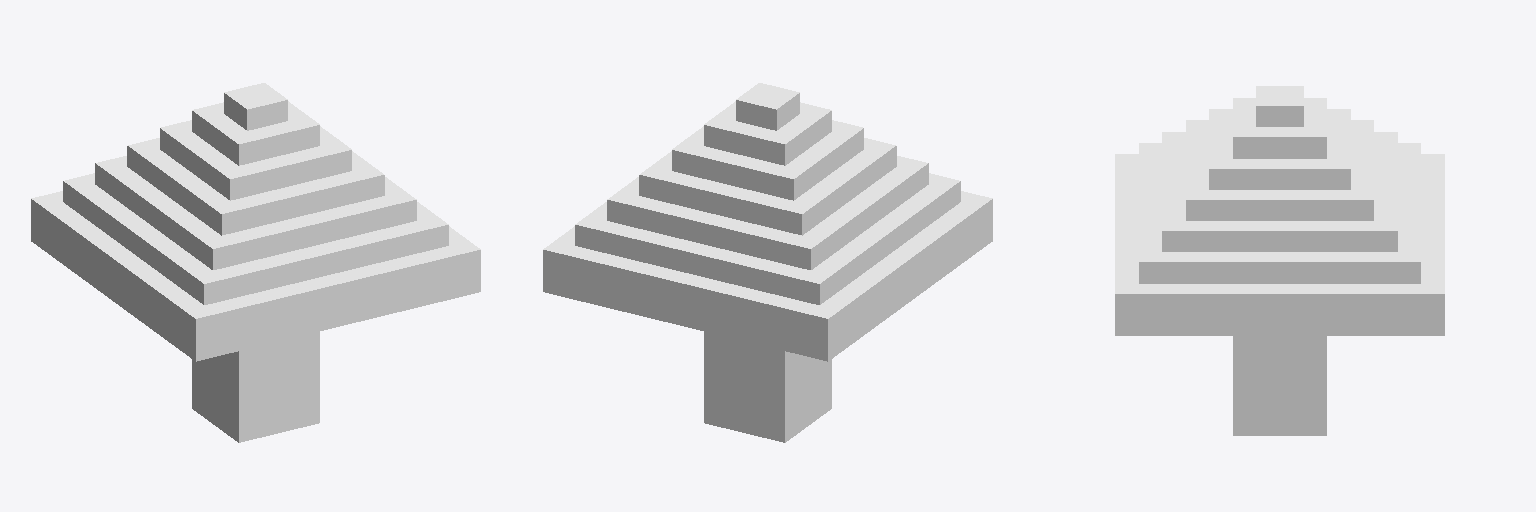
Rendered from grzyb.obj.
3 renders of one model, left to right at view 1: azimuth 30°, elevation 25°; view 2: azimuth 150°, elevation 25°; view 3: azimuth 270°, elevation 25°, orthographic.
Visible parts, largest first — view 1: object 1; view 2: object 1; view 3: object 1.
Boxes of the visible parts, x1=… form: object 1: x1=31, y1=83, x2=480, y2=442; object 1: x1=543, y1=83, x2=992, y2=442; object 1: x1=1115, y1=86, x2=1444, y2=435.
Bounding box in the file's own units: 1.4 × 1.5 × 1.4.